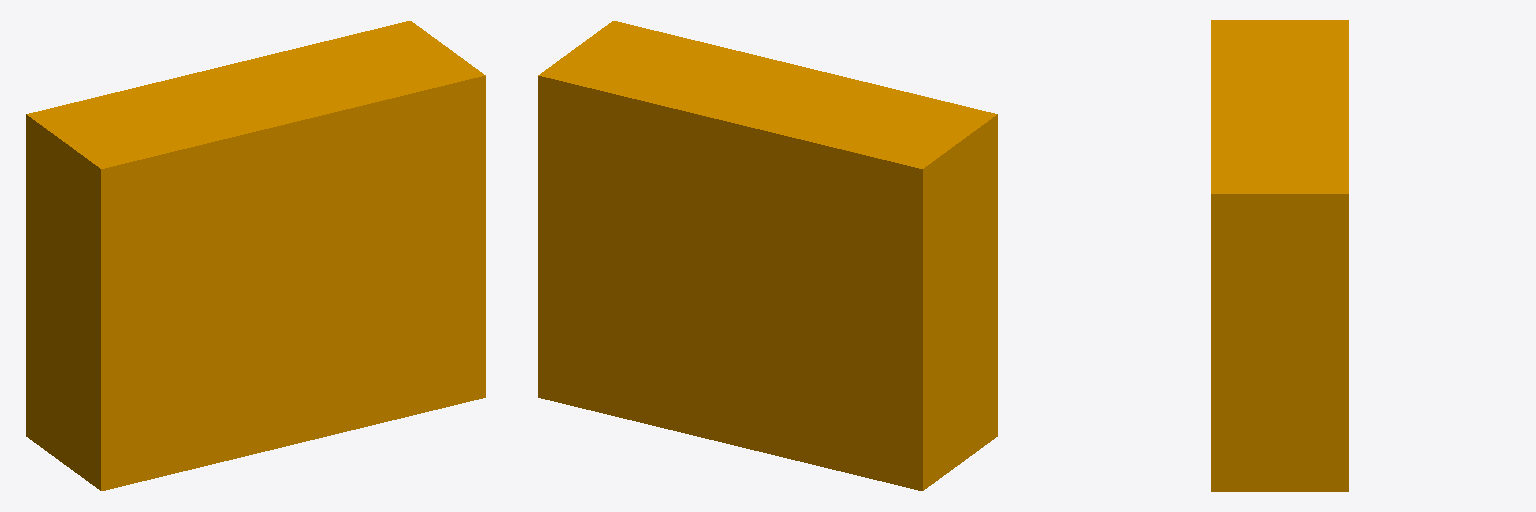
URDF robot description (roblog-dhl-box-green-simple):
<?xml version="1.0" ?>
<!-- =================================================================================== -->
<!-- |    This document was autogenerated by xacro from model.urdf.xml                 | -->
<!-- |    EDITING THIS FILE BY HAND IS NOT RECOMMENDED                                 | -->
<!-- =================================================================================== -->
<robot name="roblog-dhl-box-green-simple" xmlns:controller="http://playerstage.sourceforge.net/gazebo/xmlschema/#controller" xmlns:interface="http://playerstage.sourceforge.net/gazebo/xmlschema/#interface" xmlns:sensor="http://playerstage.sourceforge.net/gazebo/xmlschema/#sensor" xmlns:xacro="http://www.ros.org/wiki/xacro">
  <link name="link">
    <visual>
      <origin rpy="0 0 0" xyz="0 0 0"/>
      <geometry>
        <box size="0.372 0.126 0.298"/>
      </geometry>
      <material name="Gazebo/Green"/>
    </visual>
    <collision>
      <origin rpy="0 0 0" xyz="0 0 0"/>
      <contact_coefficients mu="1.0"/>
      <geometry>
        <box size="0.372 0.126 0.298"/>
      </geometry>
      <surface>
        <friction>
          <ode>
            <mu>1</mu>
            <mu2>1</mu2>
          </ode>
        </friction>
      </surface>
    </collision>
    <inertial>
      <mass value="0.25"/>
      <inertia ixx="0.00218083333333" ixy="0" ixz="0" iyy="0.00473308333333" iyz="0" izz="0.00321375"/>
    </inertial>
  </link>
  <gazebo reference="link">
    <material>Gazebo/Green</material>
  </gazebo>
</robot>

--- What the picture shows (computed from the rendered views, not written in the file) ---
The picture shows the robot from 3 angles, left to right: view 1: azimuth 30°, elevation 25°; view 2: azimuth 150°, elevation 25°; view 3: azimuth 270°, elevation 25°; orthographic projection.
Robot: roblog-dhl-box-green-simple — 1 links, 0 joints (none); root link link; default pose: every joint at zero.
Links seen in each view (by area): view 1: link; view 2: link; view 3: link.
Boxes of the visible links, x1,y1,x2,y2 form: link: (26, 21, 485, 490); link: (538, 21, 997, 490); link: (1211, 20, 1348, 491).
Size in the robot's own frame: 0.372 by 0.126 by 0.298 metres.
Geometry: primitives only (box / cylinder / sphere), no mesh files.